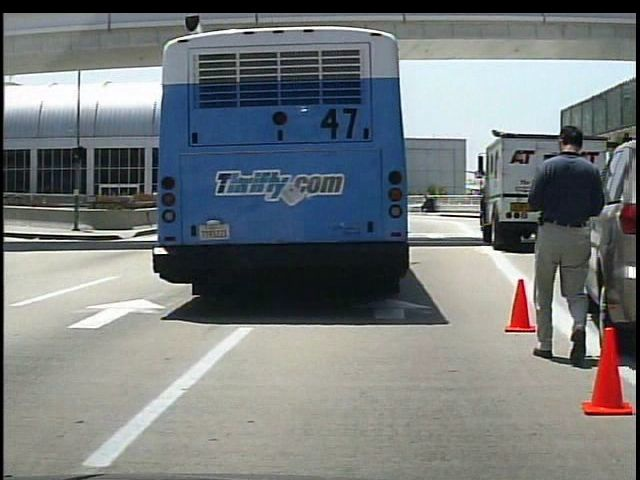person: (524, 119, 603, 368)
